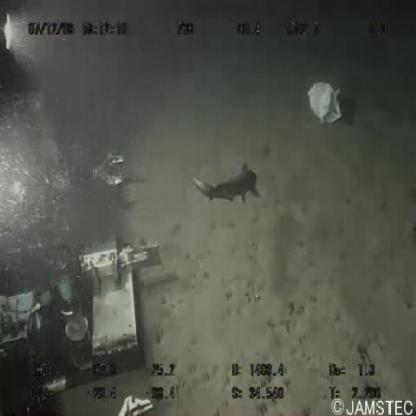Bio: (188, 158, 269, 210)
Rov: (1, 11, 169, 416)
Rác: (302, 76, 346, 130)
